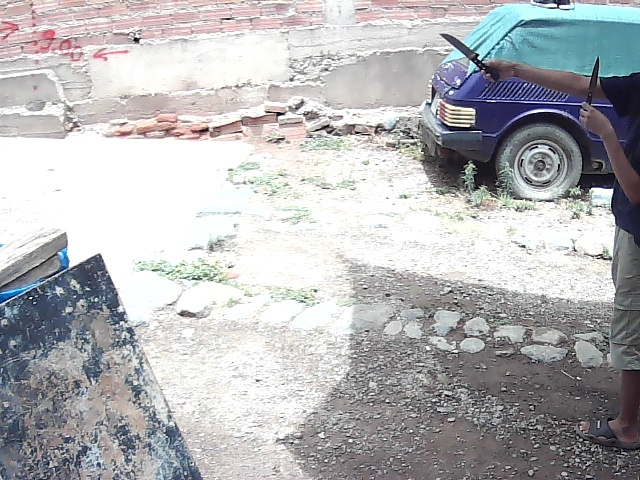cuchillo: (435, 29, 503, 83)
